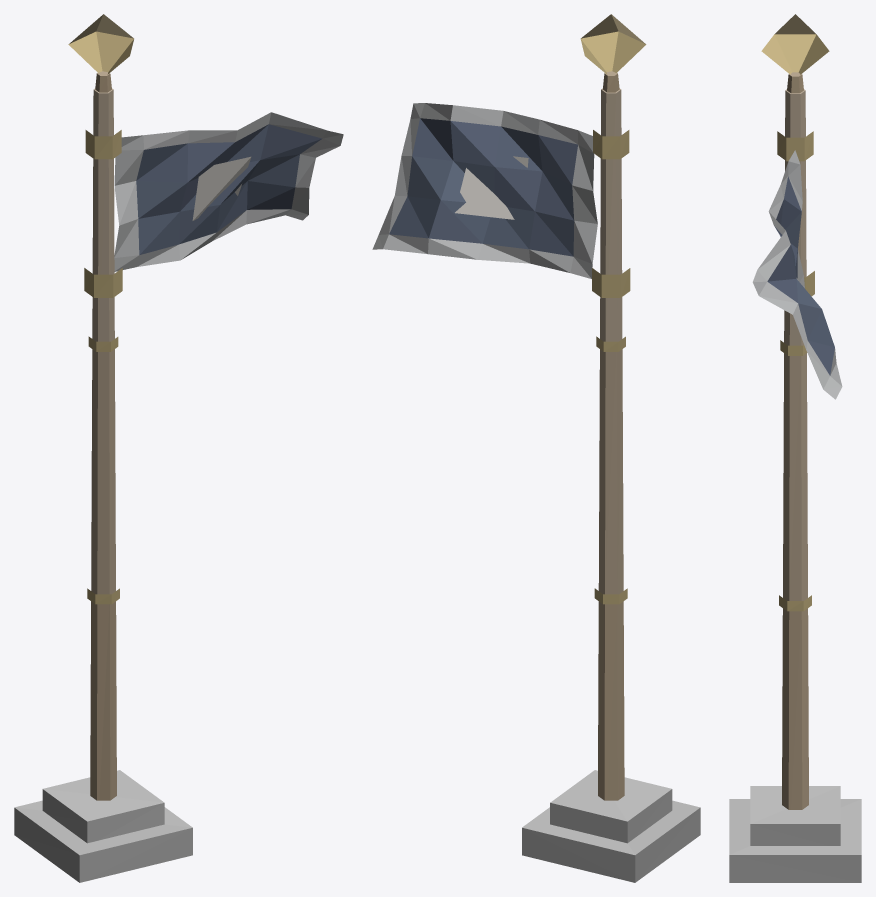
The model's file is flag.notched.dianqi__pole.ground.gaogan__masthead.glb.
3 renders of one model, left to right at view 1: azimuth 30°, elevation 25°; view 2: azimuth 150°, elevation 25°; view 3: azimuth 270°, elevation 25°, orthographic.
Parts seen in each view (by area): view 1: flag.notched.dianqi; view 2: flag.notched.dianqi; view 3: flag.notched.dianqi.
Boxes of the visible parts, <box> form: flag.notched.dianqi: <box>14,14,343,882</box>; flag.notched.dianqi: <box>372,14,700,882</box>; flag.notched.dianqi: <box>729,14,861,882</box>.
Bounding box in the file's own units: 1.98 × 5.72 × 0.816.
